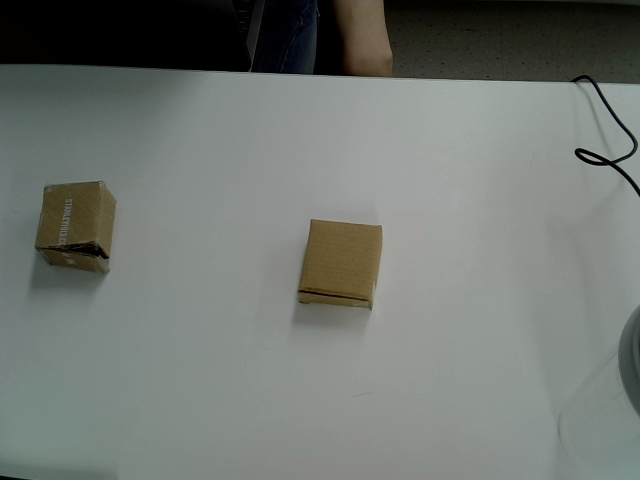defect: (34, 180, 118, 274)
normal: (298, 218, 384, 313)
